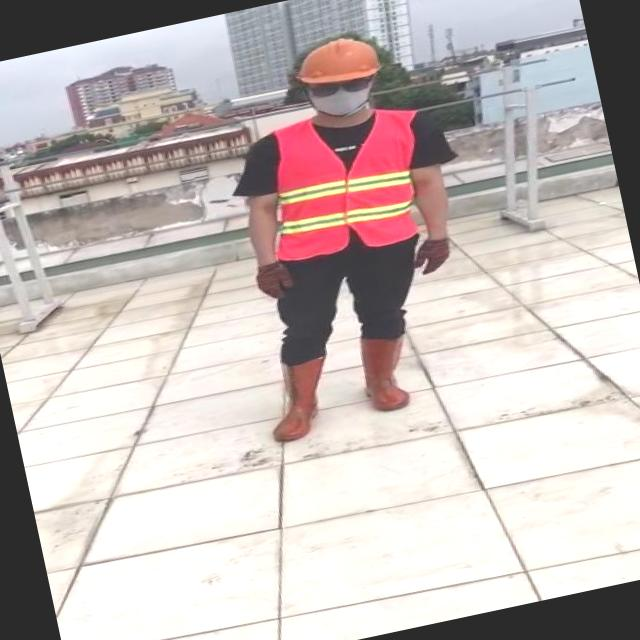boots: (258, 354, 342, 444), (350, 322, 421, 416)
gloves: (256, 261, 294, 298), (414, 237, 450, 273)
vest: (252, 100, 438, 266)
